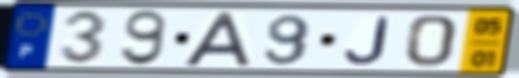0: (402, 13, 461, 69)
3: (57, 8, 111, 67)
9: (119, 8, 171, 69), (265, 12, 314, 67)
A: (179, 9, 255, 69)
J: (342, 15, 393, 66)
